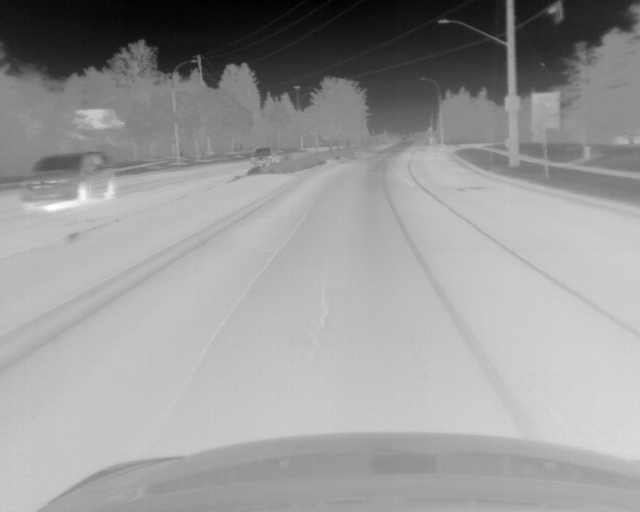car: (19, 152, 117, 206), (250, 146, 286, 167)
